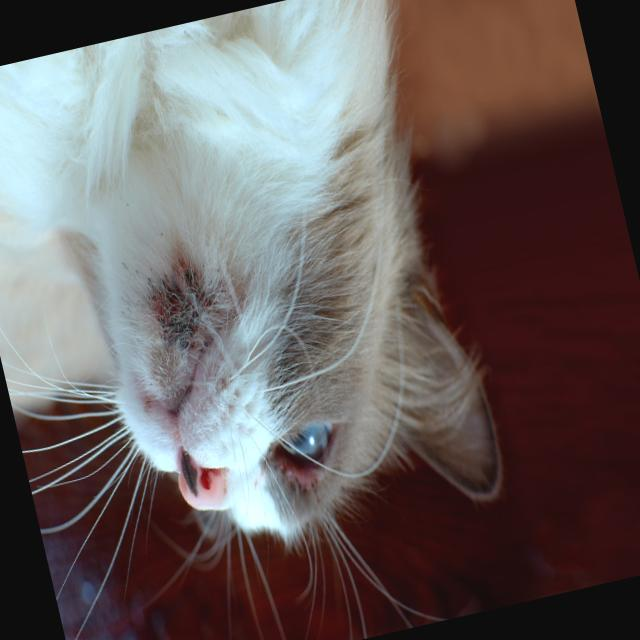cat-acne: (140, 247, 228, 360)
